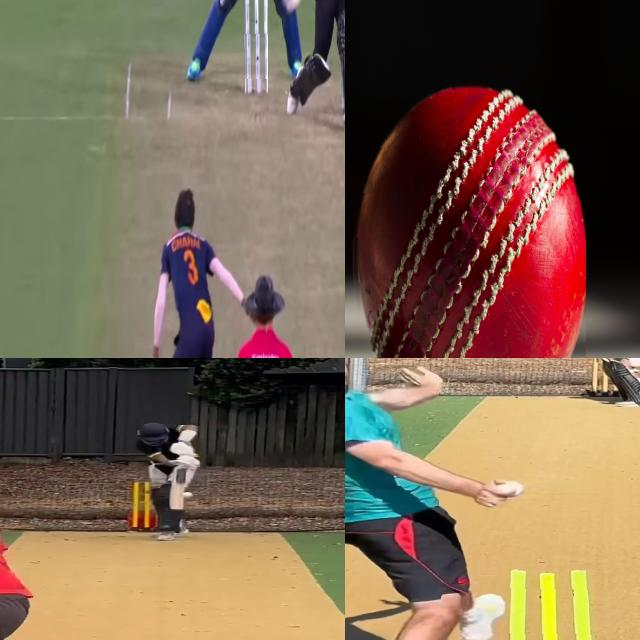Cricket ball: (349, 79, 586, 358), (181, 492, 194, 499)
Stumps: (484, 564, 616, 640), (243, 0, 267, 96)
